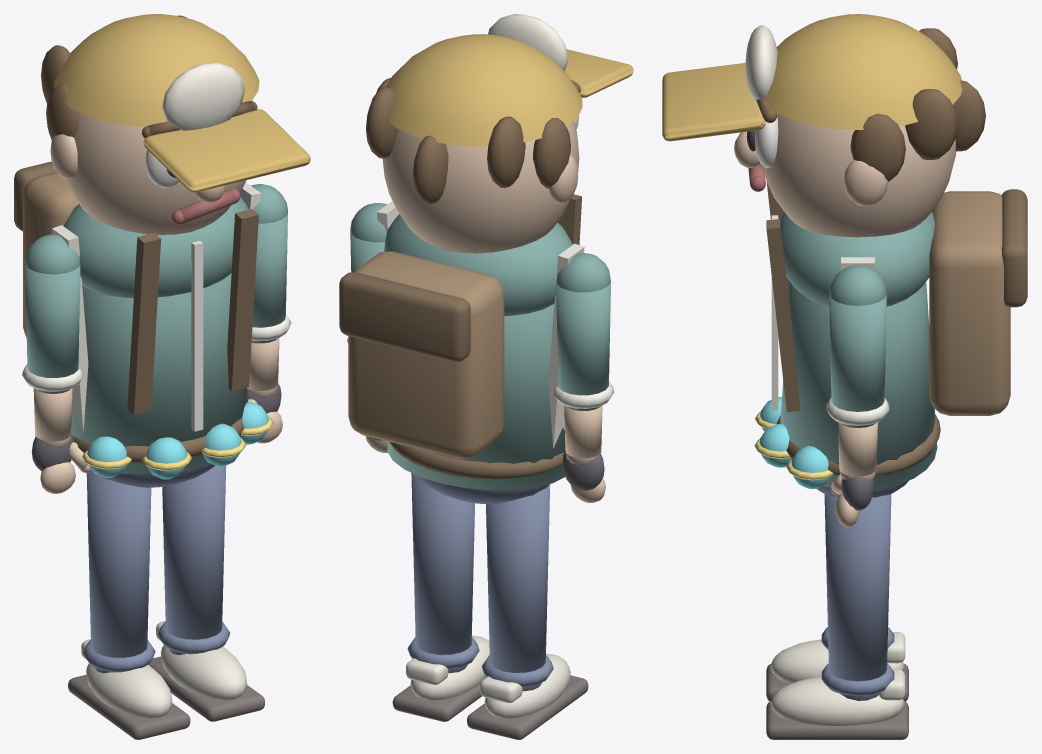
File: ballboy.glb
The picture shows the model from 3 angles, left to right: view 1: azimuth 30°, elevation 25°; view 2: azimuth 150°, elevation 25°; view 3: azimuth 270°, elevation 25°; orthographic projection. The views are drawn at different scales.
Visible parts, largest first — view 1: bb.body, bb.head, bb.legL, bb.legR, bb.armL, bb.armR, bb.footL, bb.footR, bb.handL, bb.handR; view 2: bb.body, bb.head, bb.legL, bb.legR, bb.armL, bb.footL, bb.footR, bb.armR, bb.handL; view 3: bb.body, bb.head, bb.legR, bb.armR, bb.footR, bb.footL, bb.handR.
Boxes of the visible parts, x1=… form: bb.body: x1=14, y1=161, x2=273, y2=487; bb.head: x1=41, y1=14, x2=310, y2=235; bb.legL: x1=83, y1=471, x2=155, y2=673; bb.legR: x1=157, y1=466, x2=230, y2=654; bb.armL: x1=22, y1=234, x2=83, y2=448; bb.armR: x1=244, y1=184, x2=291, y2=397; bb.footL: x1=68, y1=639, x2=190, y2=739; bb.footR: x1=148, y1=621, x2=264, y2=721; bb.handL: x1=31, y1=434, x2=91, y2=493; bb.handR: x1=247, y1=383, x2=282, y2=443; bb.body: x1=339, y1=194, x2=584, y2=504; bb.head: x1=366, y1=14, x2=633, y2=253; bb.legL: x1=481, y1=484, x2=553, y2=691; bb.legR: x1=407, y1=473, x2=479, y2=673; bb.armL: x1=553, y1=253, x2=614, y2=465; bb.footL: x1=467, y1=653, x2=588, y2=739; bb.footR: x1=392, y1=635, x2=489, y2=721; bb.armR: x1=347, y1=203, x2=393, y2=343; bb.handL: x1=562, y1=450, x2=605, y2=502; bb.body: x1=754, y1=181, x2=1027, y2=497; bb.head: x1=662, y1=14, x2=985, y2=237; bb.legR: x1=821, y1=494, x2=894, y2=700; bb.armR: x1=826, y1=265, x2=889, y2=479; bb.footR: x1=766, y1=669, x2=908, y2=739; bb.footL: x1=766, y1=632, x2=908, y2=701; bb.handR: x1=830, y1=474, x2=874, y2=527.
Size of the model in its own units: 0.91 by 2.23 by 1.08.
